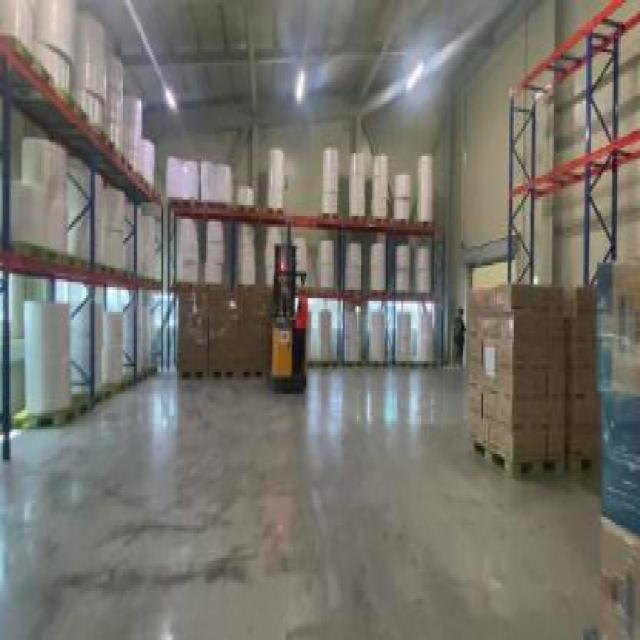box: (466, 282, 568, 495), (588, 268, 638, 637), (174, 290, 283, 383), (560, 282, 611, 478)
person: (292, 282, 308, 391), (452, 309, 462, 364)
robot: (270, 213, 312, 394)
white_roll: (12, 298, 83, 432), (8, 140, 69, 262), (154, 156, 258, 205), (71, 8, 109, 134), (32, 0, 73, 98), (66, 170, 103, 270), (71, 301, 103, 413), (97, 188, 134, 282), (118, 301, 158, 380), (100, 52, 128, 156), (99, 309, 132, 394), (172, 211, 200, 287), (414, 153, 438, 230), (312, 232, 337, 301), (202, 219, 226, 290), (317, 148, 341, 218), (231, 227, 255, 295), (311, 304, 337, 366), (345, 150, 369, 216), (123, 93, 142, 170), (368, 153, 389, 222), (138, 208, 158, 279), (262, 227, 282, 293), (340, 306, 362, 366), (392, 309, 414, 364), (416, 306, 436, 366), (368, 309, 389, 364), (292, 238, 312, 293), (369, 238, 389, 293), (268, 145, 284, 211), (392, 167, 410, 224), (343, 244, 363, 292), (394, 238, 411, 293), (138, 131, 152, 189), (416, 247, 430, 296)
